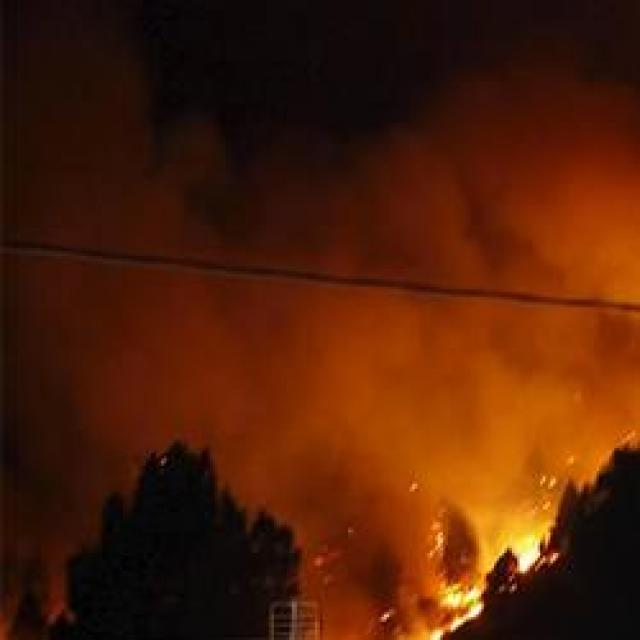fire: (420, 586, 489, 639), (520, 538, 538, 578)
smoke: (482, 33, 640, 310), (250, 276, 430, 508), (306, 140, 504, 272), (476, 352, 594, 454), (322, 592, 382, 638)
